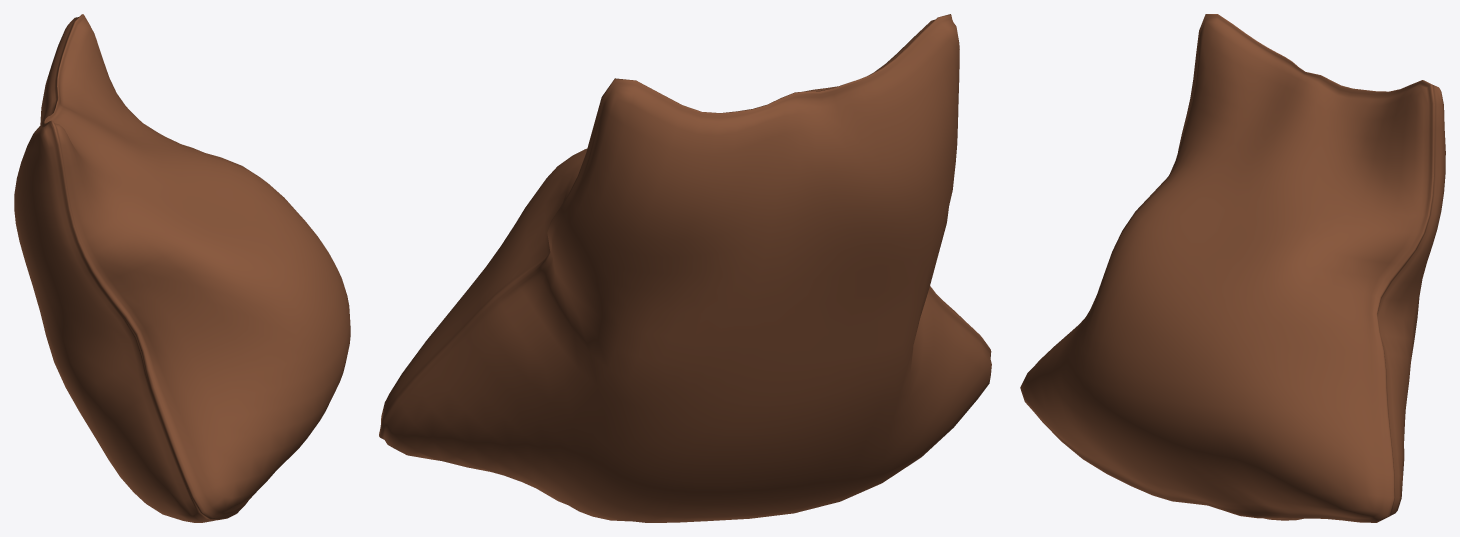
The model's file is ricesack.fbx.
The picture shows the model from 3 angles, left to right: view 1: azimuth 30°, elevation 25°; view 2: azimuth 150°, elevation 25°; view 3: azimuth 270°, elevation 25°; orthographic projection. The views are drawn at different scales.
Visible parts, largest first — view 1: Cube.169; view 2: Cube.169; view 3: Cube.169.
Boxes of the visible parts, x1,y1,x2,y2 form: Cube.169: (14,14,350,522); Cube.169: (379,14,991,522); Cube.169: (1020,14,1445,522).
Size of the model in its own units: 250 by 268 by 256.
